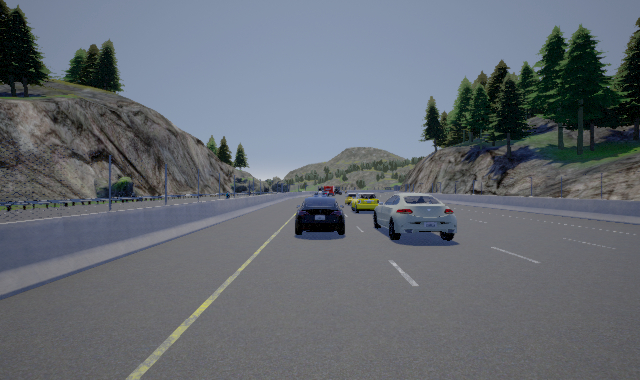vehicle: (374, 193, 457, 241), (294, 196, 345, 235), (351, 192, 381, 215)
